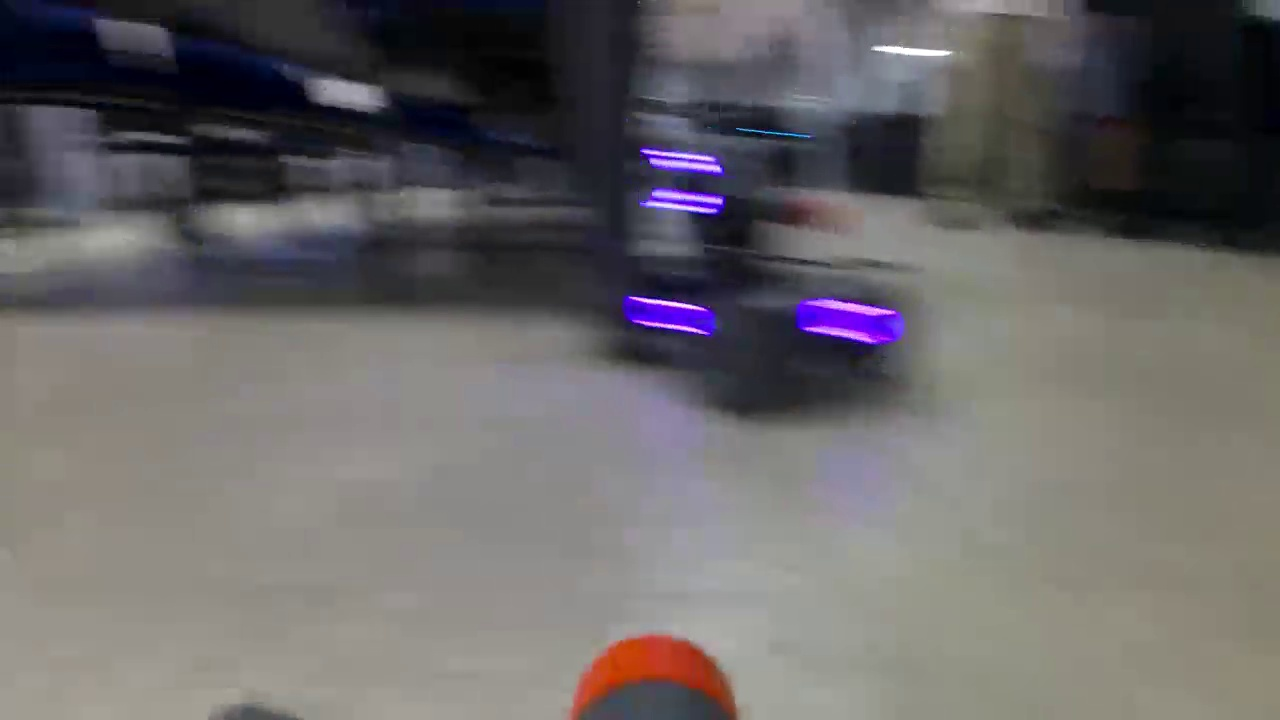robot: (609, 118, 909, 438)
